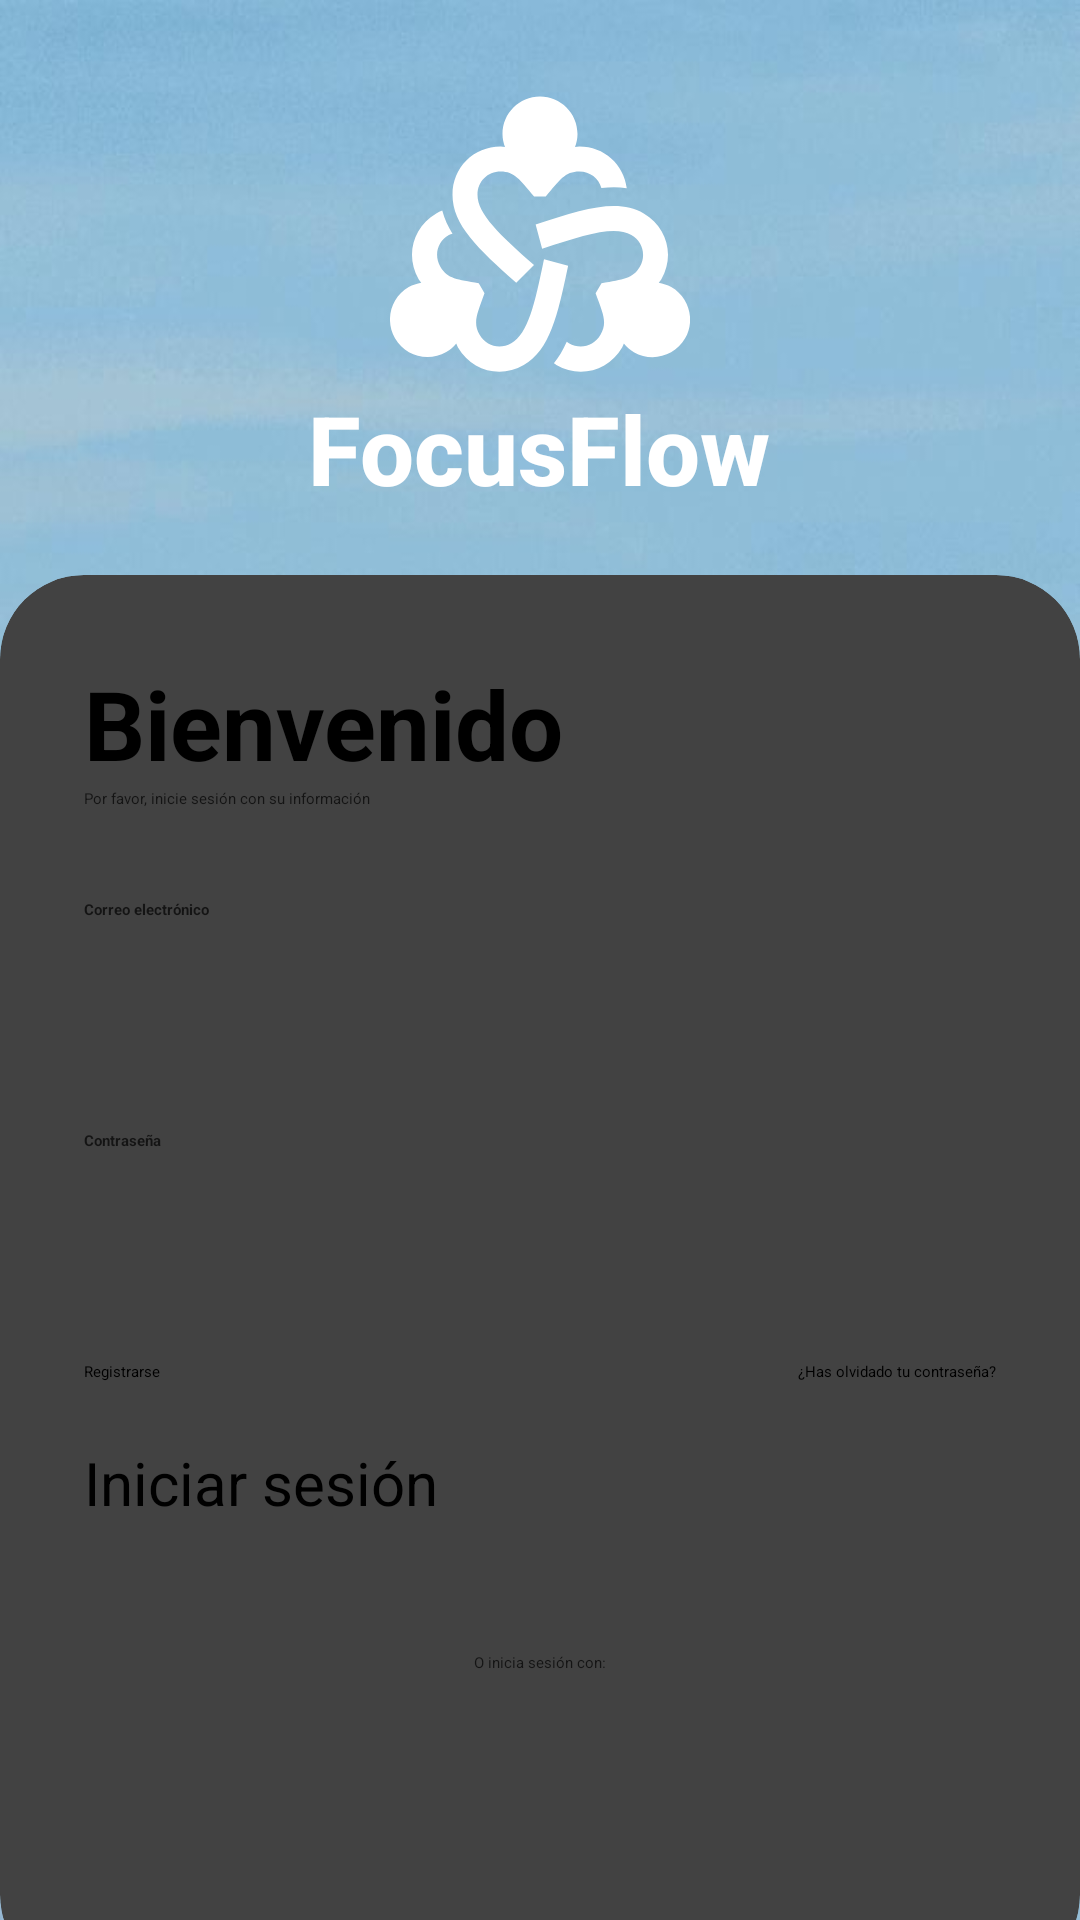

Icons on this 1080 x 1920 Android screen, each with its box as (x1, y1, x2, y2):
diversity: (390, 96, 690, 372)
